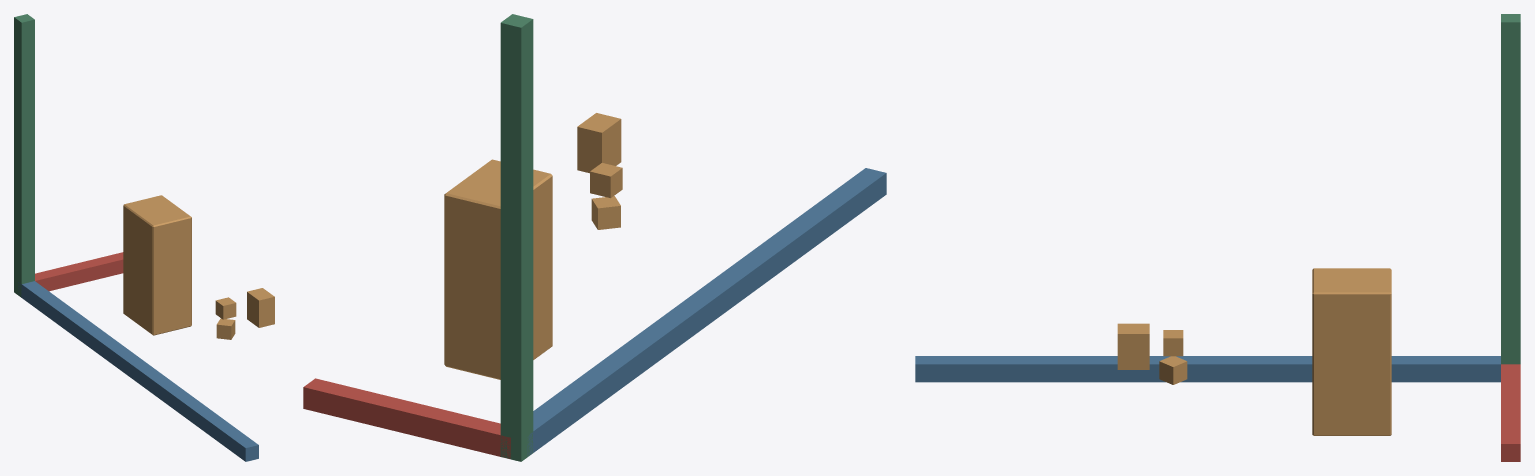
The model's file is calibration.glb.
3 renders of one model, left to right at view 1: azimuth 30°, elevation 25°; view 2: azimuth 150°, elevation 25°; view 3: azimuth 270°, elevation 25°, orthographic. The views are drawn at different scales.
Parts seen in each view (by area): view 1: calibration__batch_00, calibration__batch_03, calibration__batch_02, calibration__batch_01, calibration__batch_04, calibration__batch_05; view 2: calibration__batch_00, calibration__batch_03, calibration__batch_02, calibration__batch_01, calibration__batch_04, calibration__batch_05; view 3: calibration__batch_00, calibration__batch_03, calibration__batch_02, calibration__batch_01, calibration__batch_04, calibration__batch_05.
Boxes of the visible parts, x1,y1,x2,y2 form: calibration__batch_00: [123, 195, 191, 335]; calibration__batch_03: [18, 281, 258, 461]; calibration__batch_02: [14, 14, 34, 297]; calibration__batch_01: [35, 252, 123, 291]; calibration__batch_04: [247, 288, 274, 327]; calibration__batch_05: [215, 297, 236, 339]; calibration__batch_00: [444, 159, 552, 379]; calibration__batch_03: [527, 168, 886, 456]; calibration__batch_02: [500, 14, 533, 461]; calibration__batch_01: [303, 378, 510, 458]; calibration__batch_04: [577, 113, 621, 173]; calibration__batch_05: [590, 163, 622, 229]; calibration__batch_00: [1312, 268, 1391, 435]; calibration__batch_03: [915, 356, 1500, 382]; calibration__batch_02: [1501, 14, 1520, 364]; calibration__batch_01: [1501, 364, 1520, 461]; calibration__batch_04: [1117, 323, 1149, 369]; calibration__batch_05: [1159, 330, 1187, 384].
Bounding box in the file's own units: 1.05 × 2 × 3.05.
